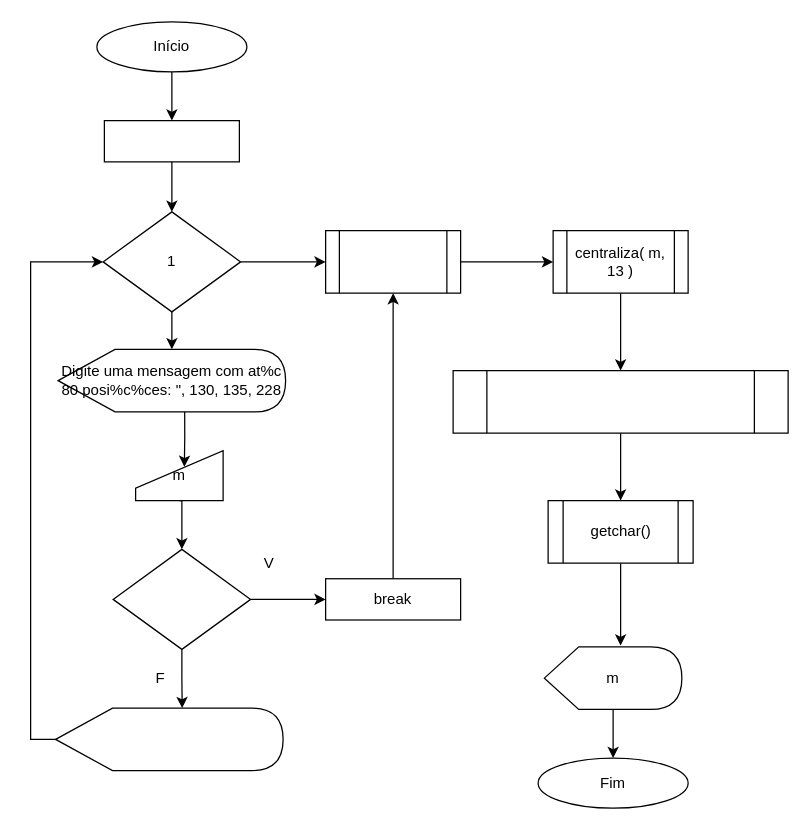
Some shapes in this 810 by 830 pixel diagram are drawn without their labels. The centre of each missing label's shape, as x and y in pixels:
"_clrscr()" belongs at point 392,261.
"_gotoxy( ( 80 - strlen( m ) ) /2 + 1,y )" belongs at point 620,401.
"char m[128]" belongs at point 171,140.
"Mensagem muito longa!" belongs at point 168,739.
"strlen( m ) <= 80" belongs at point 181,598.
